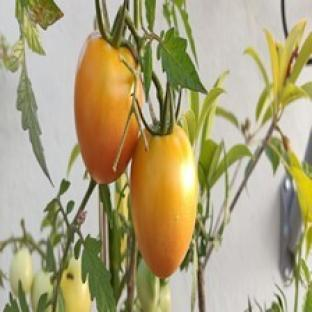Tomato: (131, 126, 197, 278), (74, 33, 139, 183), (62, 258, 91, 311), (137, 260, 160, 311), (10, 247, 33, 295), (31, 271, 52, 310), (156, 282, 171, 311)
